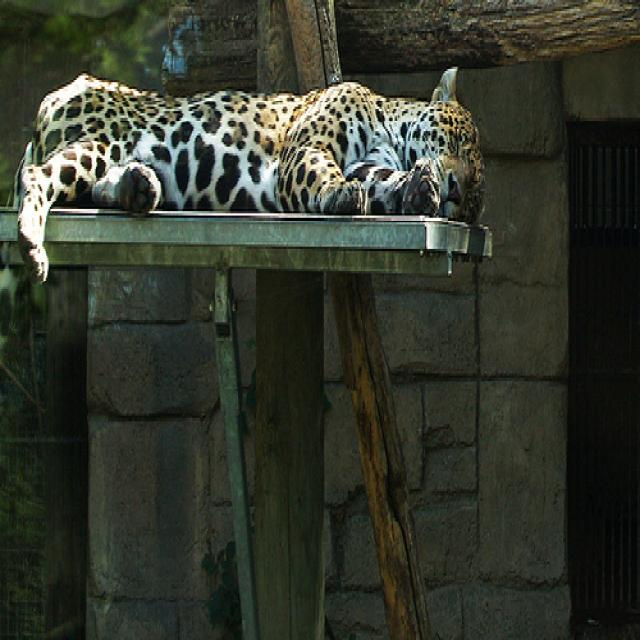Leopard: (2, 62, 488, 276)
